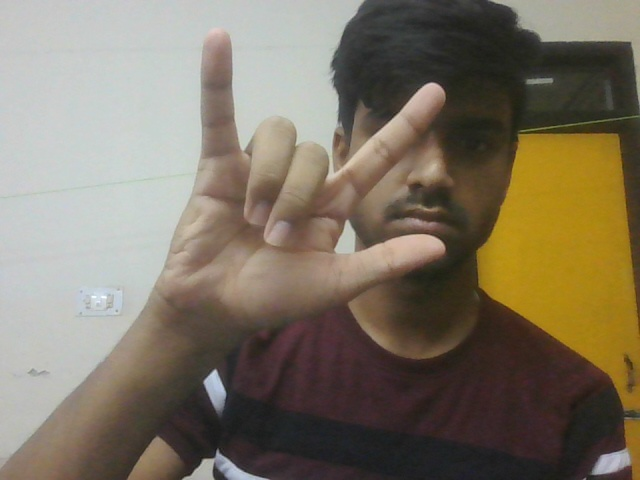iloveyou: (133, 26, 469, 345)
